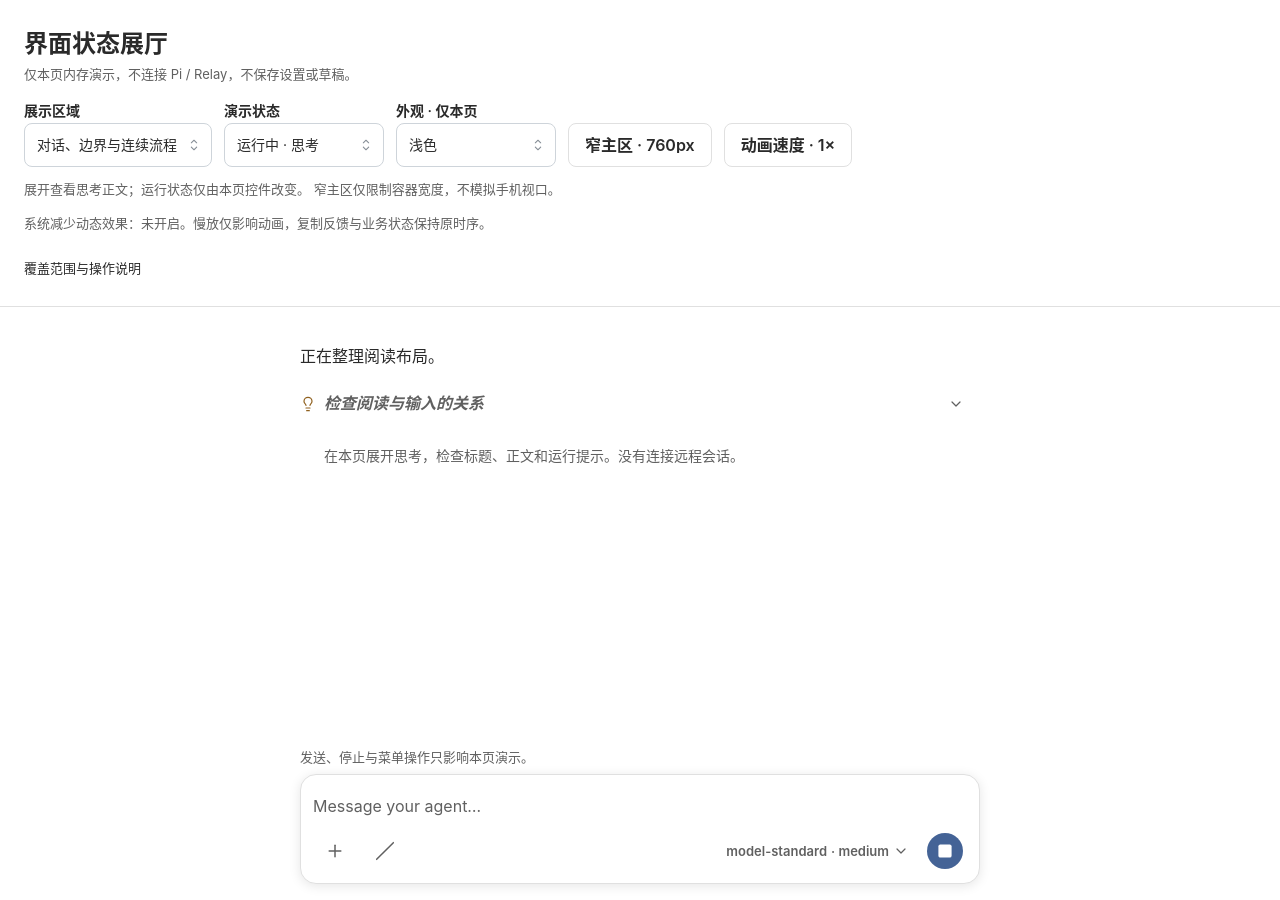
Scenario: offline prevents send and explicitly recovers in memory
Type "恢复后仍保留" into the text box with placeholder "Message your agent…" at (640, 807), box [313,785,967,829]
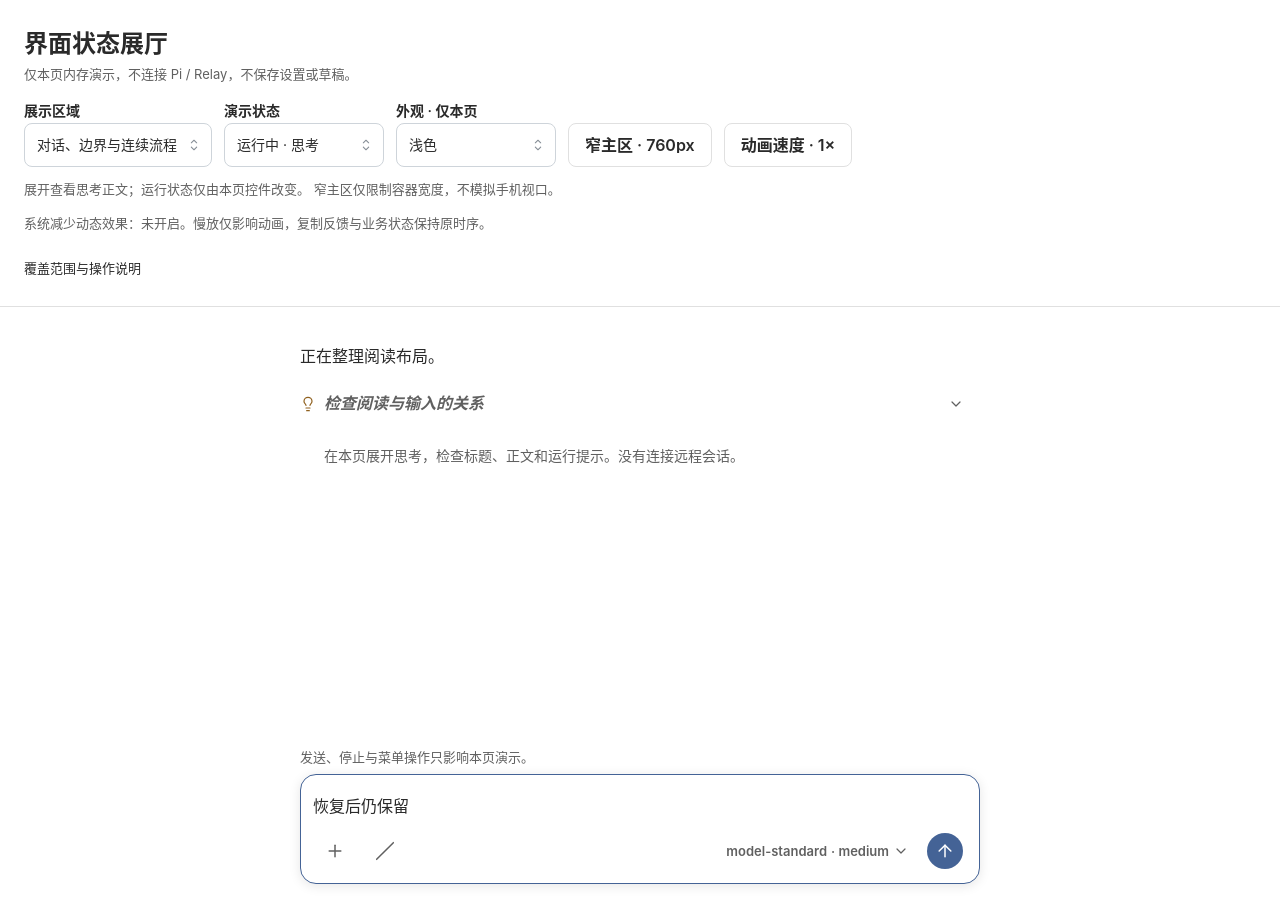
Select "离线" in the dropdown labelled "演示状态" at (304, 145), box [224,123,384,167]
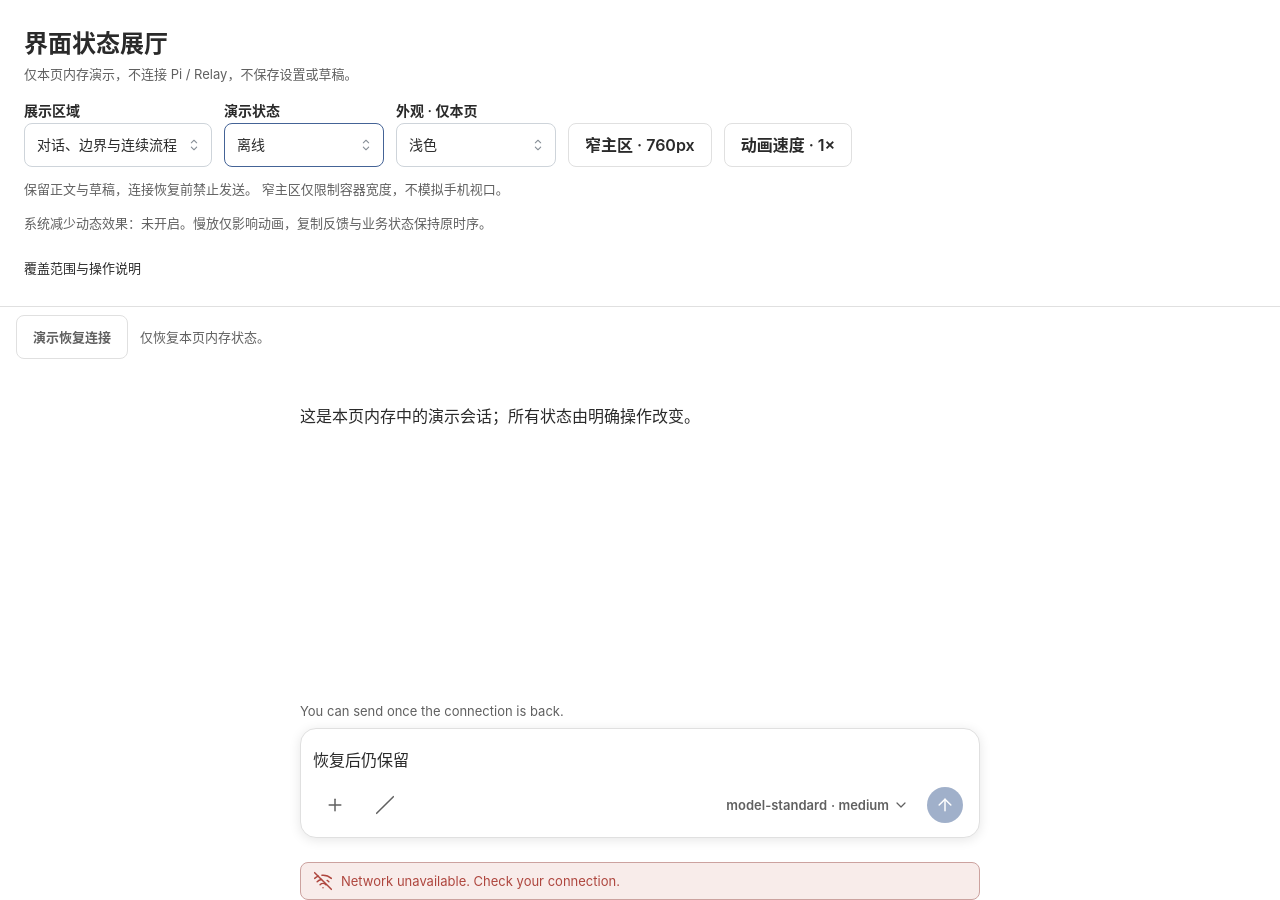
Now the message "Network unavailable. Check your connection." is shown, box [300,862,980,899]
Now the button named "Send message" is disabled, box [923,783,967,827]
Submit the form, box [300,703,980,838]
Expected: the text "已演示发送" is not shown
Click the button "演示恢复连接" at (72, 337), box [16,315,128,359]
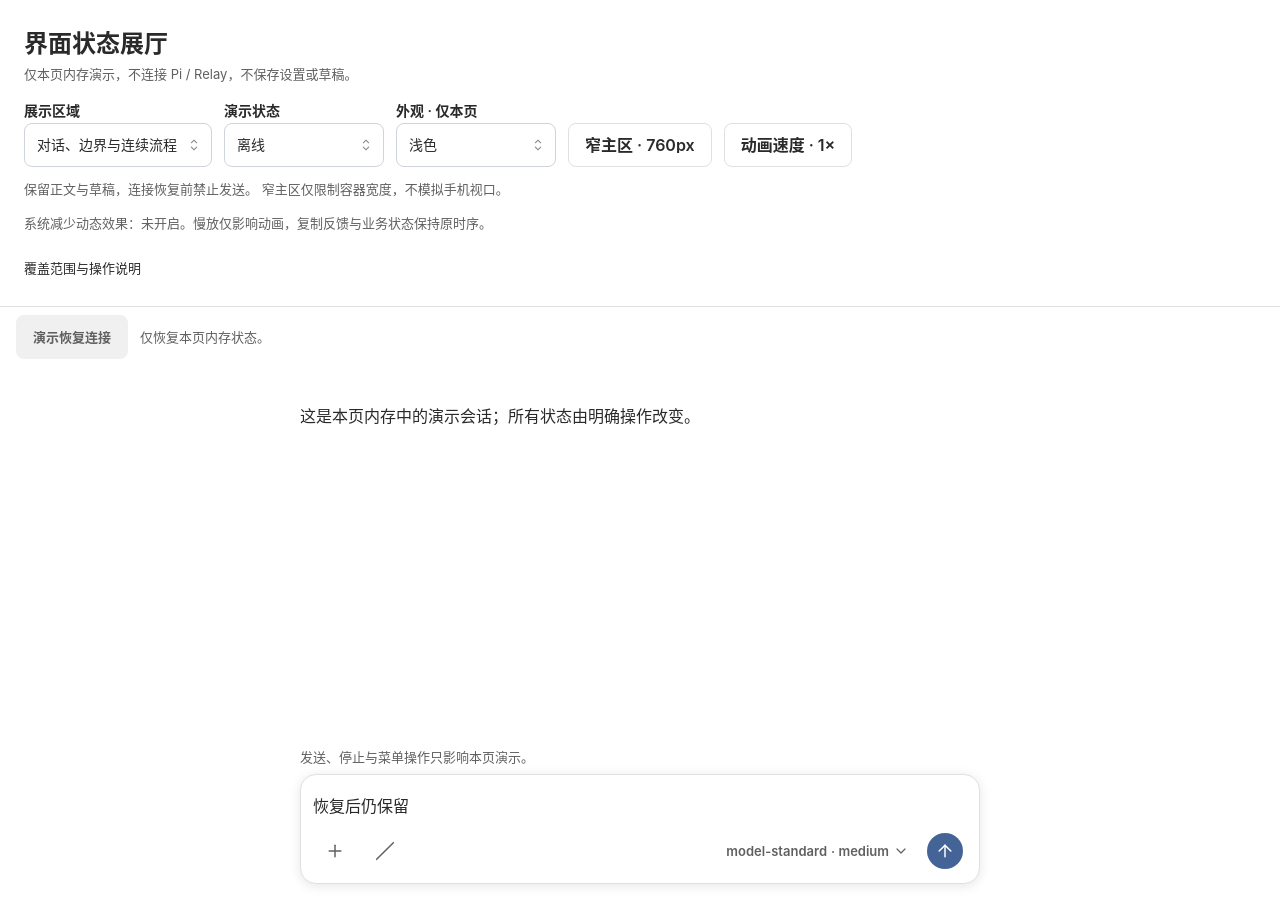
Now the message "Network unavailable. Check your connection." is gone
Now the button named "Send message" is enabled
Click the button named "Send message" at (945, 851), box [923,829,967,873]
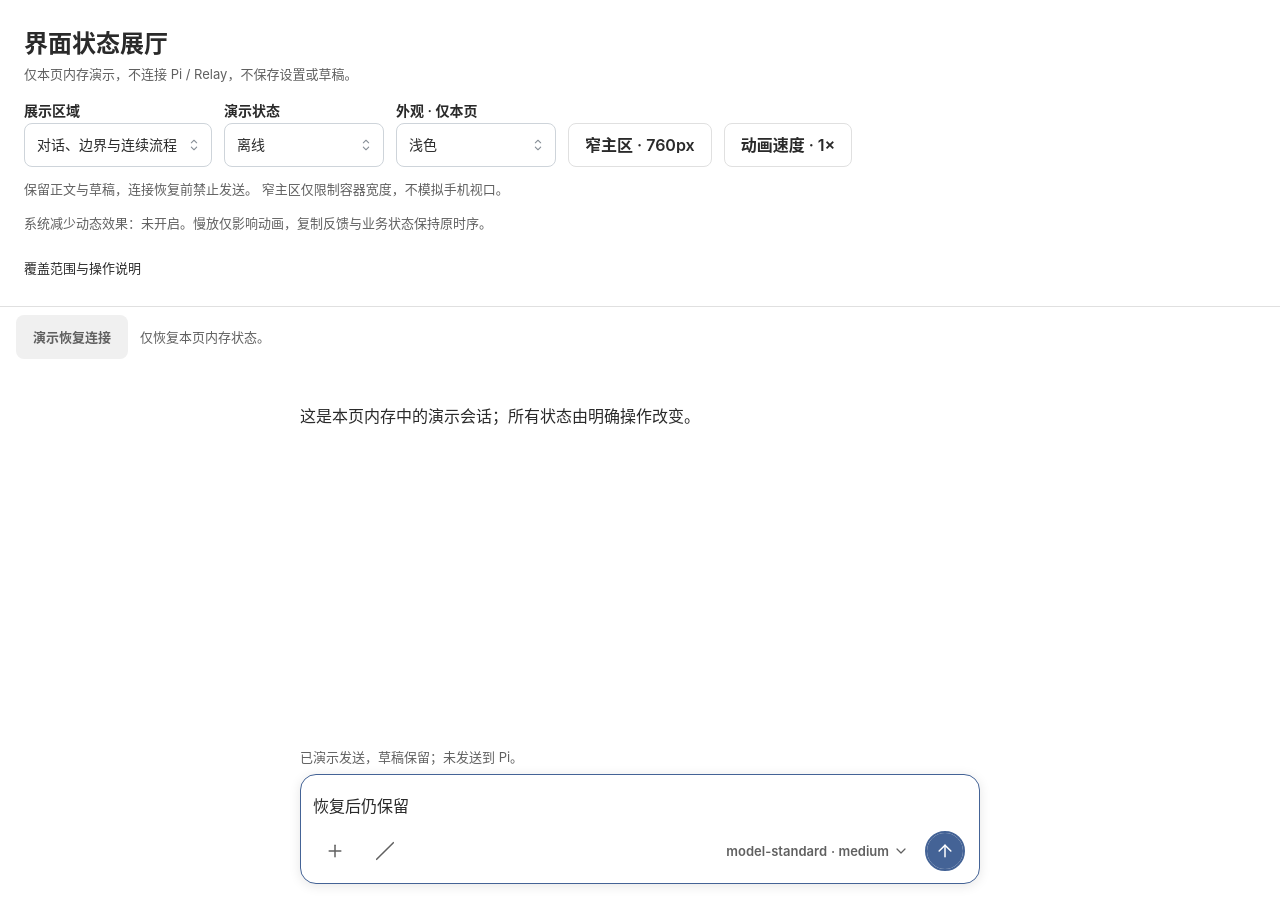
Now the text "已演示发送，草稿保留；未发送到 Pi。" is shown, box [300,748,523,766]
